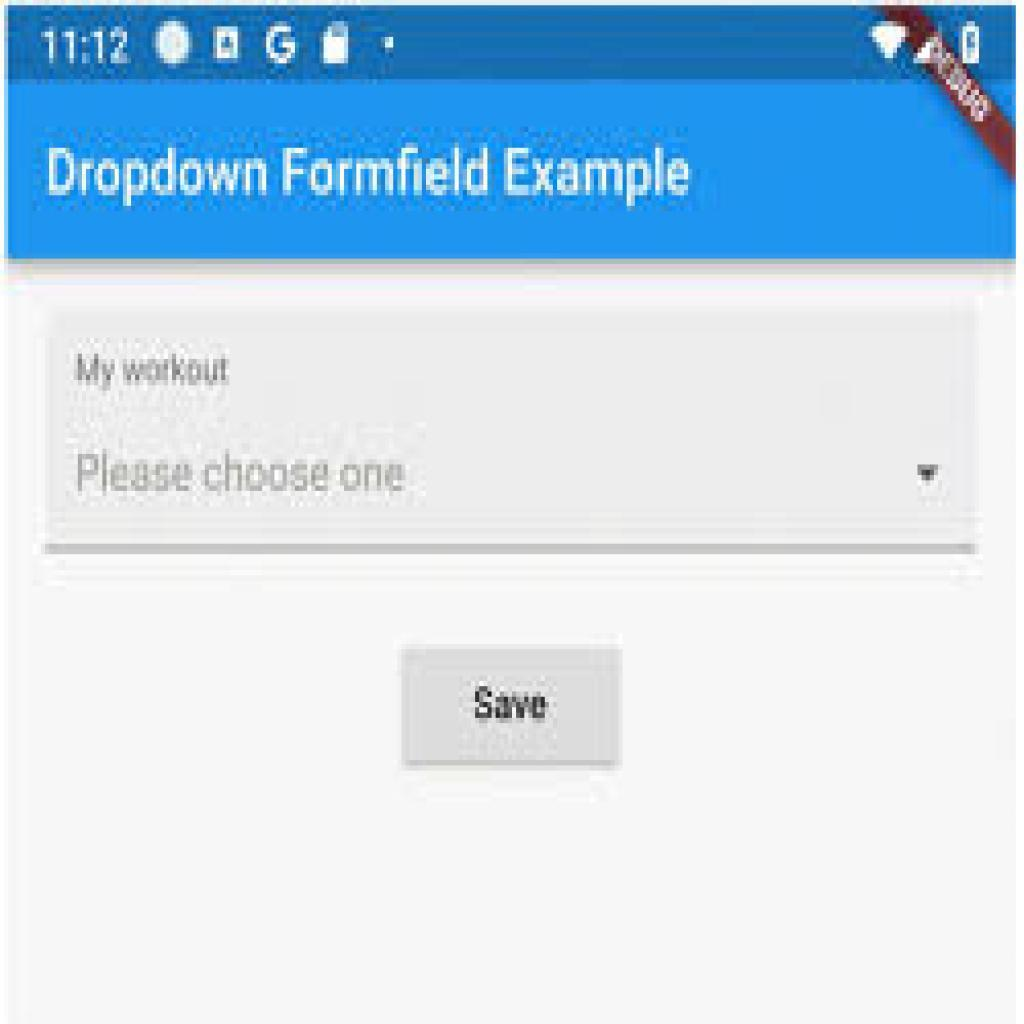button: (400, 651, 622, 766)
dropdown: (44, 306, 976, 553)
